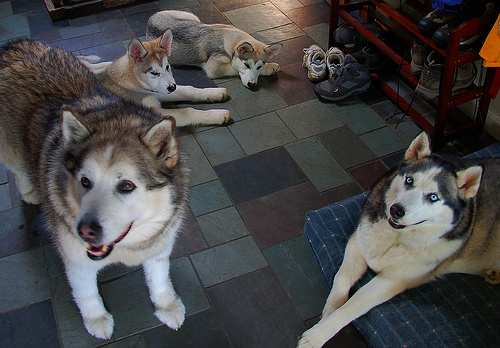dog: (0, 32, 195, 341), (297, 128, 499, 347)
